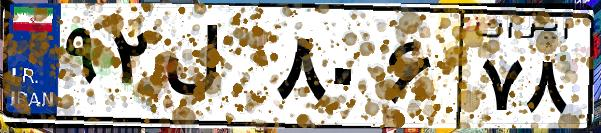0: (330, 28, 385, 110)
2: (110, 28, 158, 98)
6: (385, 28, 445, 110)
7: (475, 38, 525, 113)
8: (270, 28, 330, 110), (525, 38, 570, 115)
9: (57, 26, 110, 100)
ل: (158, 20, 270, 120)
